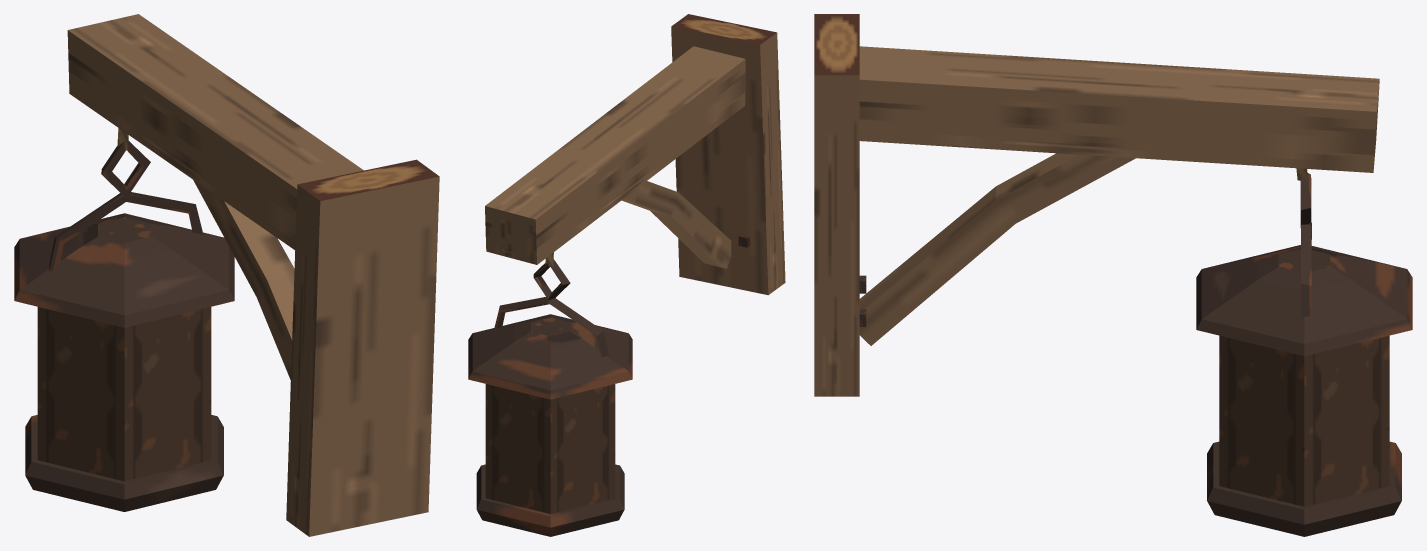
The model's file is SM_PR03_LanternBracket.fbx.
The picture shows the model from 3 angles, left to right: view 1: azimuth 30°, elevation 25°; view 2: azimuth 150°, elevation 25°; view 3: azimuth 270°, elevation 25°; orthographic projection. The views are drawn at different scales.
Parts seen in each view (by area): view 1: PR03_Lantern, PR03_Frame; view 2: PR03_Lantern, PR03_Frame; view 3: PR03_Lantern, PR03_Frame.
Boxes of the visible parts, x1,y1,x2,y2 form: PR03_Lantern: [14, 14, 439, 536]; PR03_Frame: [37, 307, 211, 481]; PR03_Lantern: [468, 14, 785, 536]; PR03_Frame: [485, 384, 615, 513]; PR03_Lantern: [814, 14, 1412, 536]; PR03_Frame: [1219, 335, 1389, 506].
Size of the model in its own units: 0.2215 by 0.444 by 0.5309.
